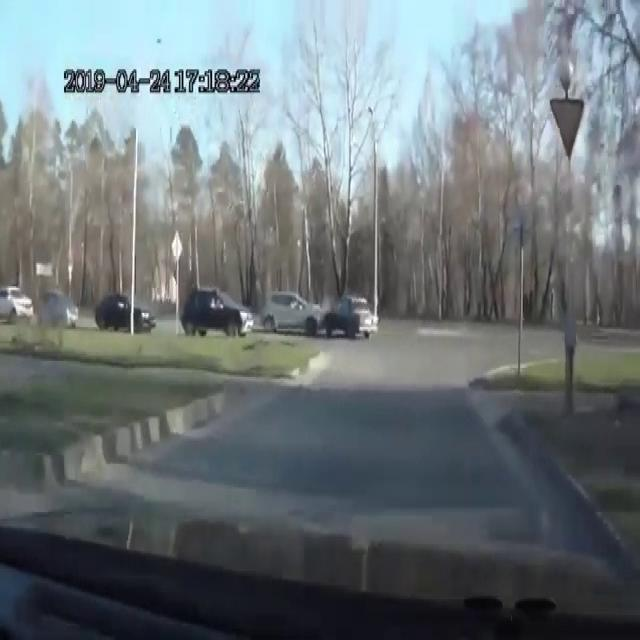multiple_accident: (237, 286, 389, 336)
normal: (0, 265, 268, 361)
